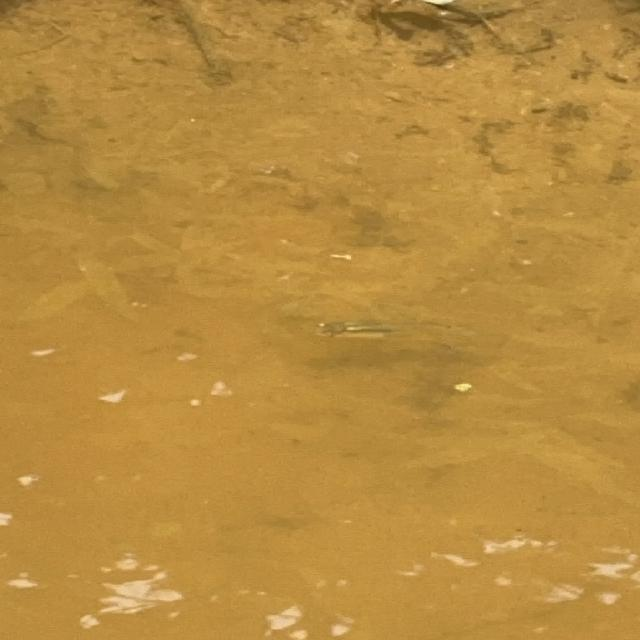Sivrisinek Baligi: (309, 313, 426, 347)
